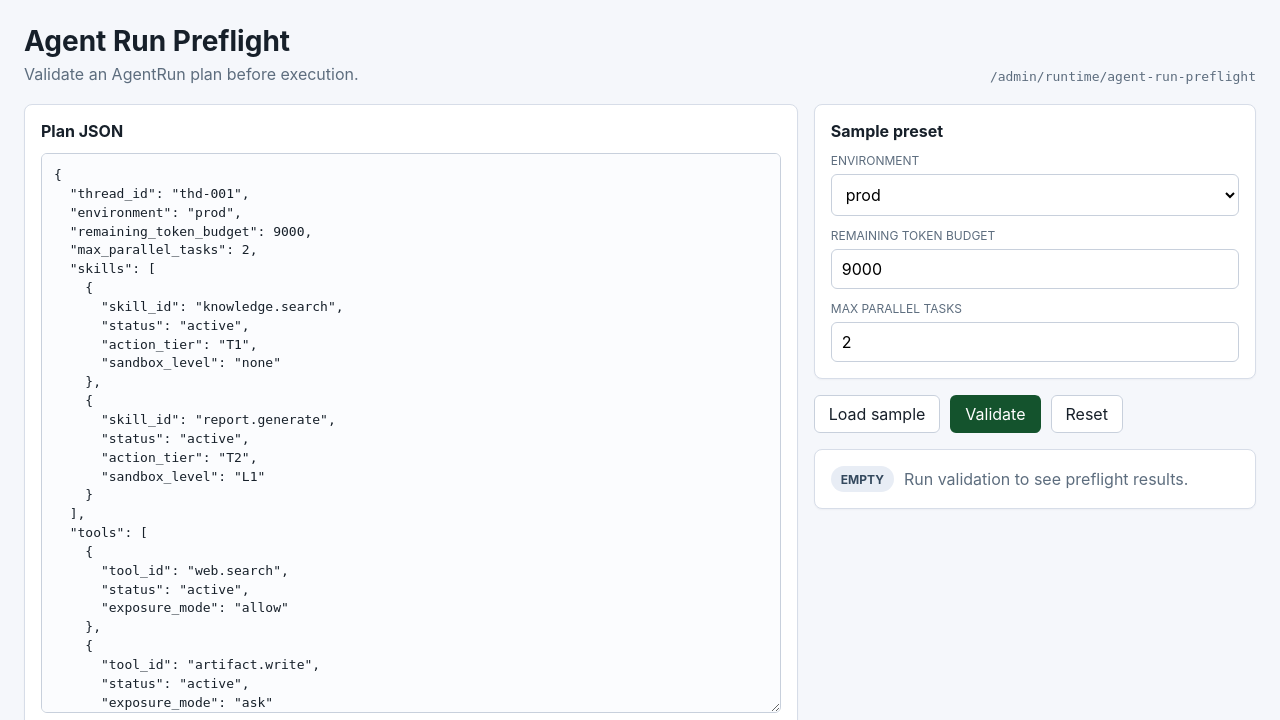
Test: AgentRunPreflightPage › shows loading state
Click the button "Validate" at (995,414), box [950, 395, 1040, 433]
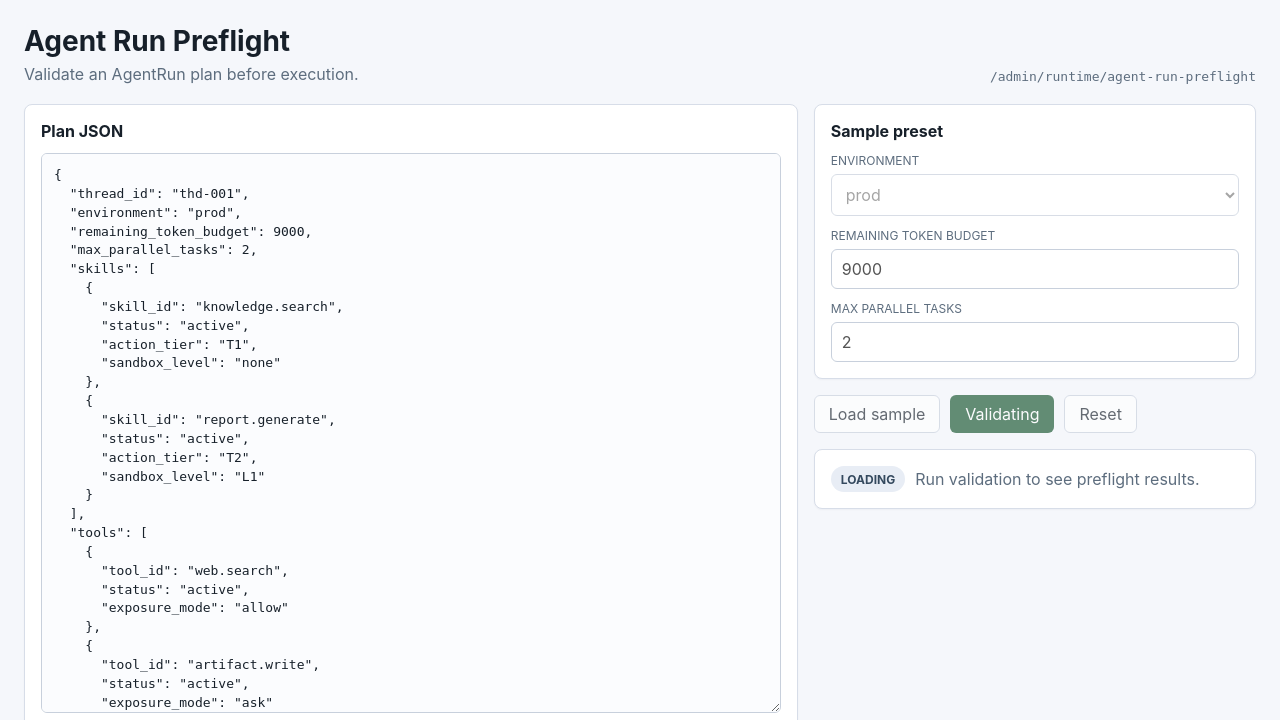
Result: the button "Validating" is disabled at [950, 395, 1054, 433]
